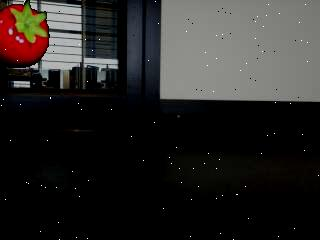Tomato: (0, 0, 51, 69)
